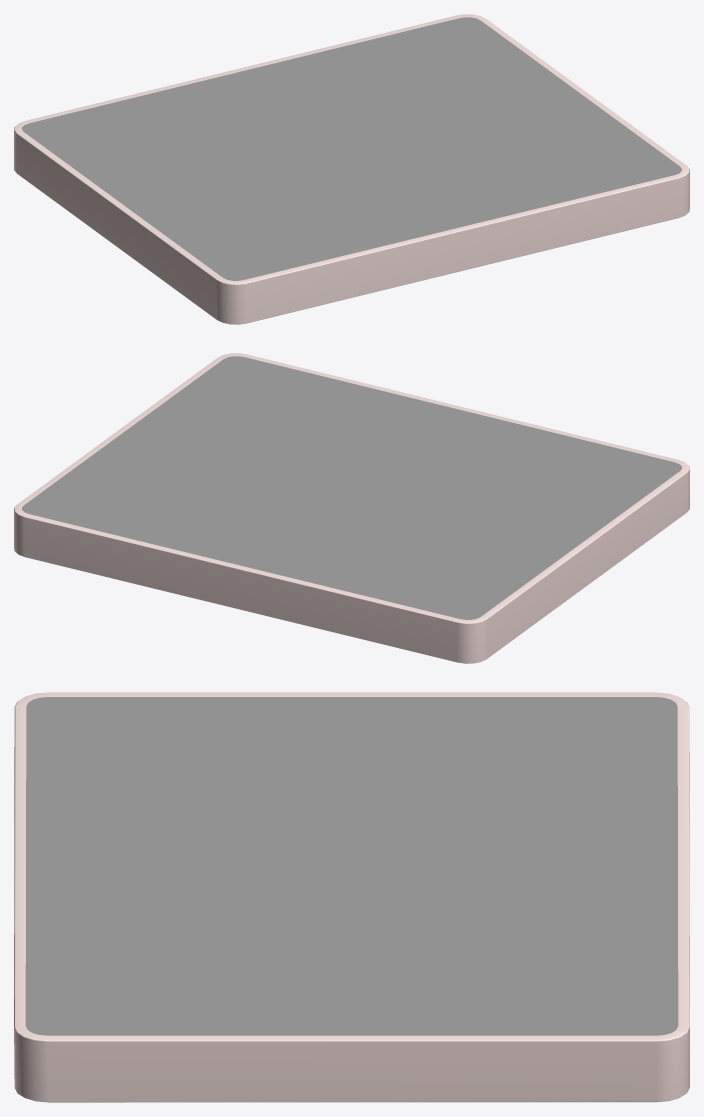
Rendered from Public_7_Base_1.glb.
3 views of the same model, one above another, from view 1: azimuth 30°, elevation 25°; view 2: azimuth 150°, elevation 25°; view 3: azimuth 270°, elevation 25° (orthographic). The views are drawn at different scales.
Parts seen in each view (by area): view 1: Public_7_Base_1; view 2: Public_7_Base_1; view 3: Public_7_Base_1.
Part boxes in pixels (x1,y1,x2,y2): Public_7_Base_1: (14,14,689,324); Public_7_Base_1: (14,353,689,663); Public_7_Base_1: (14,692,689,1102).
Bounding box in the file's own units: 15.28 × 1.27 × 12.51.
1 material, 1 textured.
